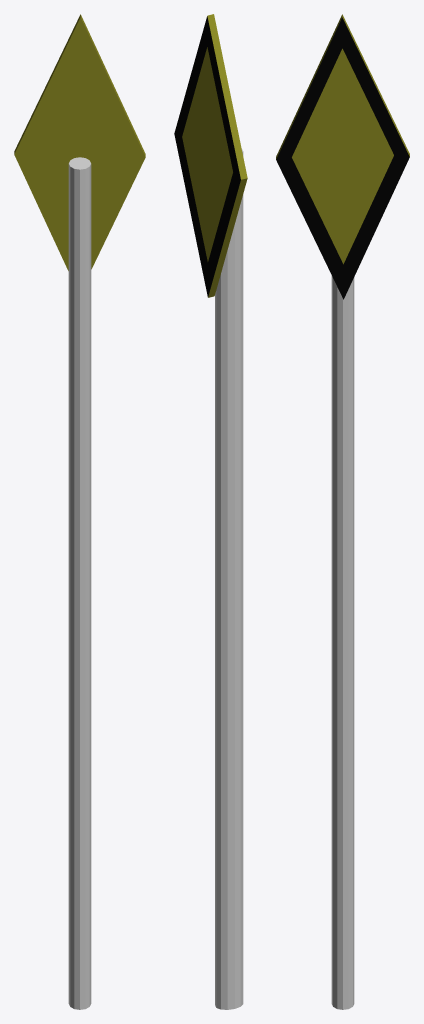
Rendered from Curva.fbx.
3 views of the same model, side by side, from view 1: azimuth 90°, elevation 25°; view 2: azimuth 210°, elevation 25°; view 3: azimuth 270°, elevation 25° (orthographic).
Visible parts, largest first — view 1: Palo, Señal; view 2: Palo, Señal; view 3: Señal, Palo.
Part boxes in pixels (x1=…): Palo: x1=68, y1=157, x2=91, y2=1009; Señal: x1=14, y1=14, x2=145, y2=270; Palo: x1=215, y1=149, x2=243, y2=1009; Señal: x1=174, y1=14, x2=247, y2=297; Señal: x1=276, y1=14, x2=409, y2=299; Palo: x1=331, y1=275, x2=354, y2=1009.
Bounding box in the file's own units: 0.1056 × 2.91 × 0.3544.
